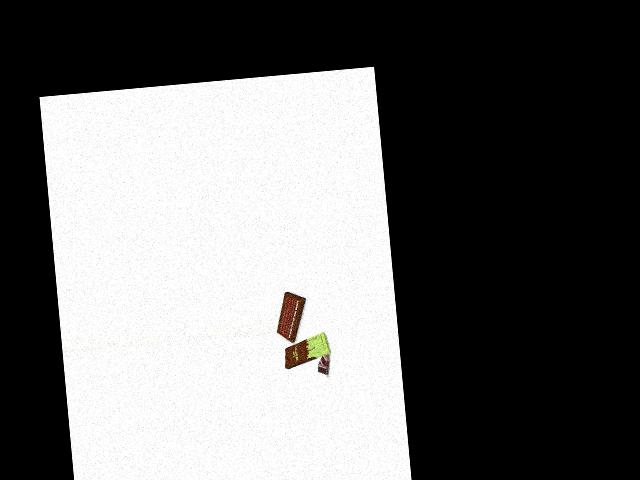chocolate: (281, 334, 333, 366)
